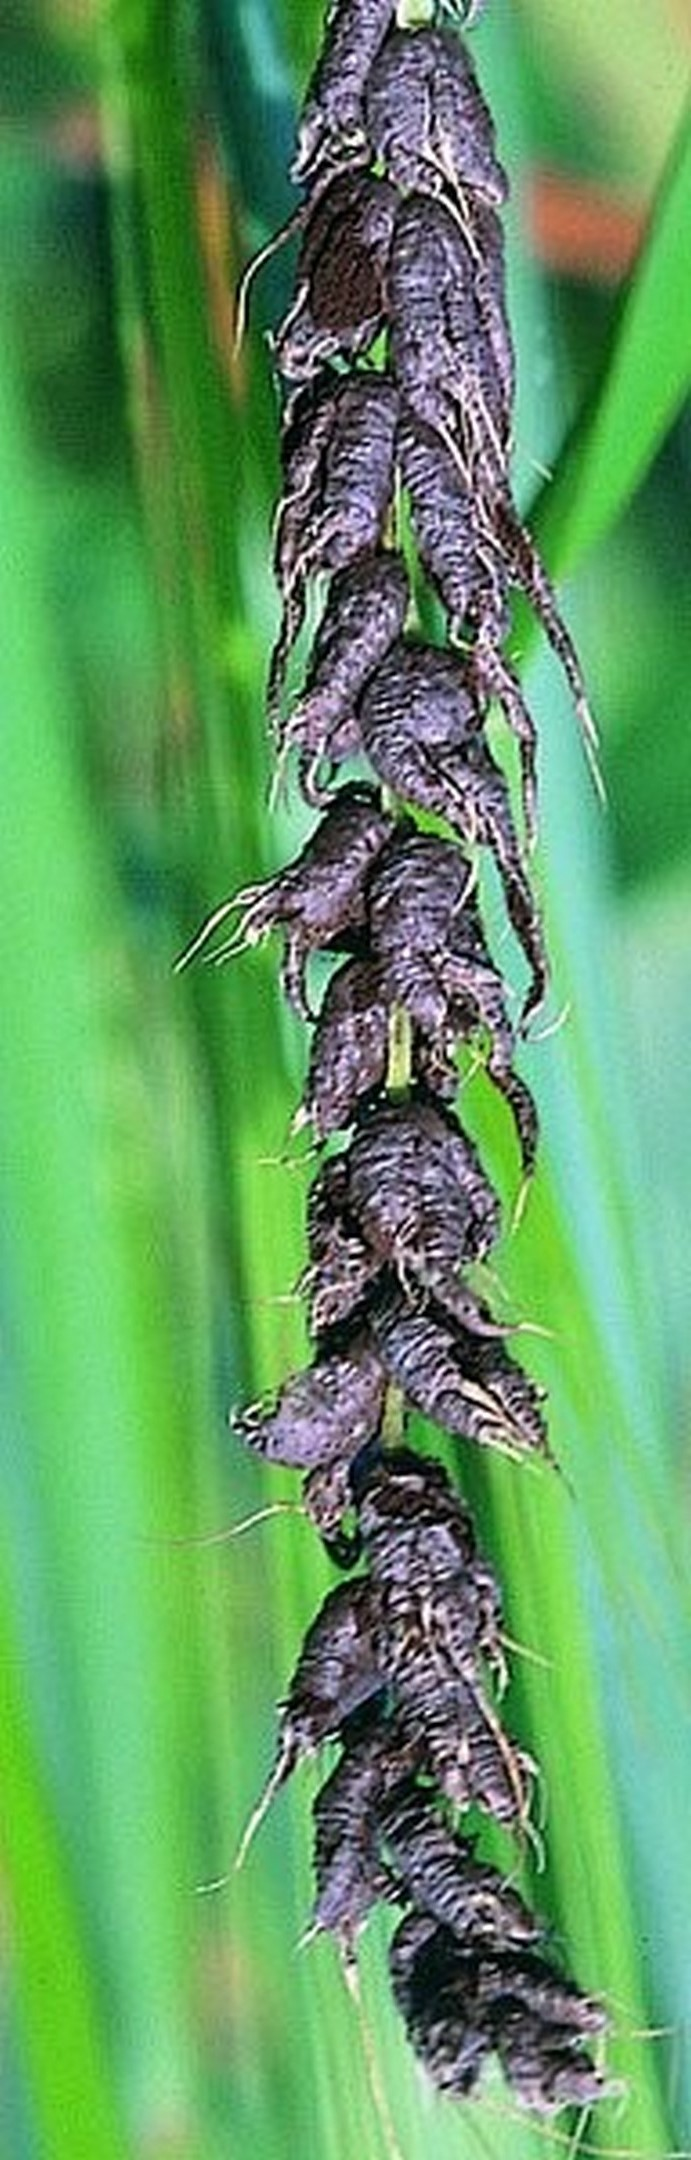Wheat Loose Smut: (189, 66, 637, 2080)
